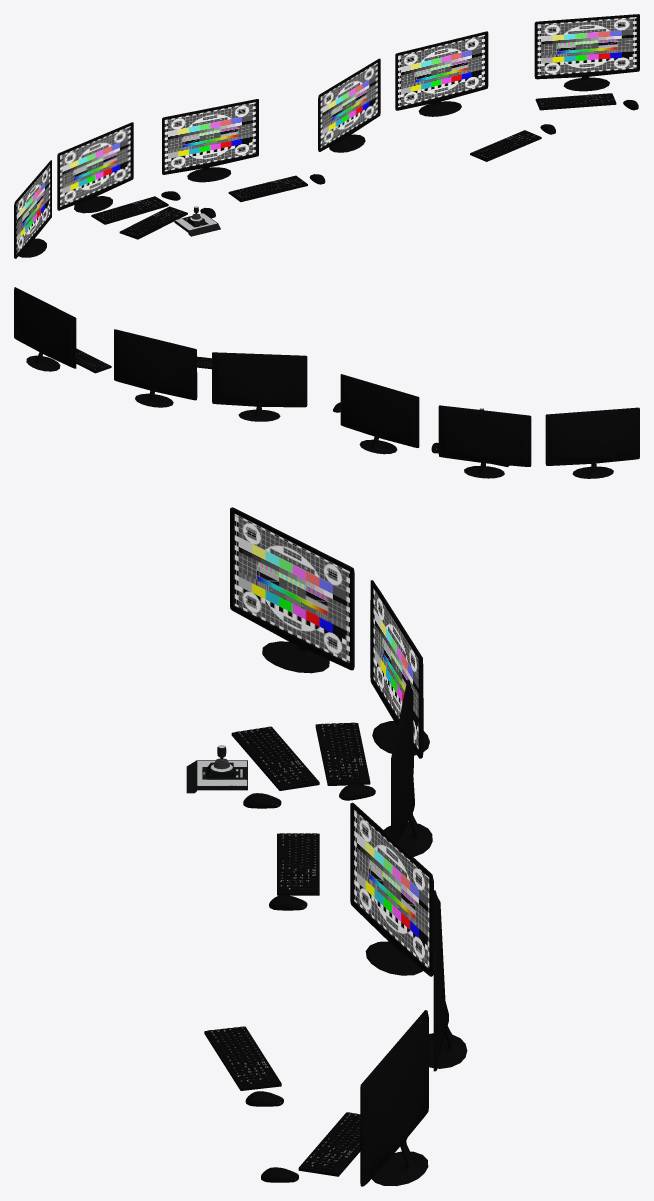
Rendered from Monitors_group1.glb.
3 views of the same model, one above another, from view 1: azimuth 30°, elevation 25°; view 2: azimuth 150°, elevation 25°; view 3: azimuth 270°, elevation 25° (orthographic). The views are drawn at different scales.
Parts seen in each view (by area): view 1: Display_flat011 (×6), Monitor_flat021 (×6), Keyboard006 (×5), Korpus; view 2: Monitor_flat021 (×6), Keyboard006; view 3: Monitor_flat021 (×6), Display_flat011 (×3), Keyboard006 (×5), Korpus.
Part boxes in pixels (x1,y1,x2,y2): Display_flat011 (×6): [16, 17, 637, 253]; Monitor_flat021 (×6): [14, 14, 639, 258]; Keyboard006 (×5): [91, 93, 616, 239]; Korpus: [174, 213, 220, 236]; Monitor_flat021 (×6): [14, 287, 639, 478]; Keyboard006: [76, 348, 111, 373]; Monitor_flat021 (×6): [230, 507, 467, 1186]; Display_flat011 (×3): [234, 513, 429, 968]; Keyboard006 (×5): [204, 722, 370, 1176]; Korpus: [186, 760, 247, 793].
Bounding box in the file's own units: 4.04 × 0.3978 × 0.8262.
Materials: 5 (3 with a texture image).
